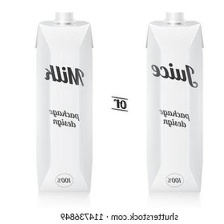carton: (31, 5, 101, 195), (141, 9, 207, 197)
